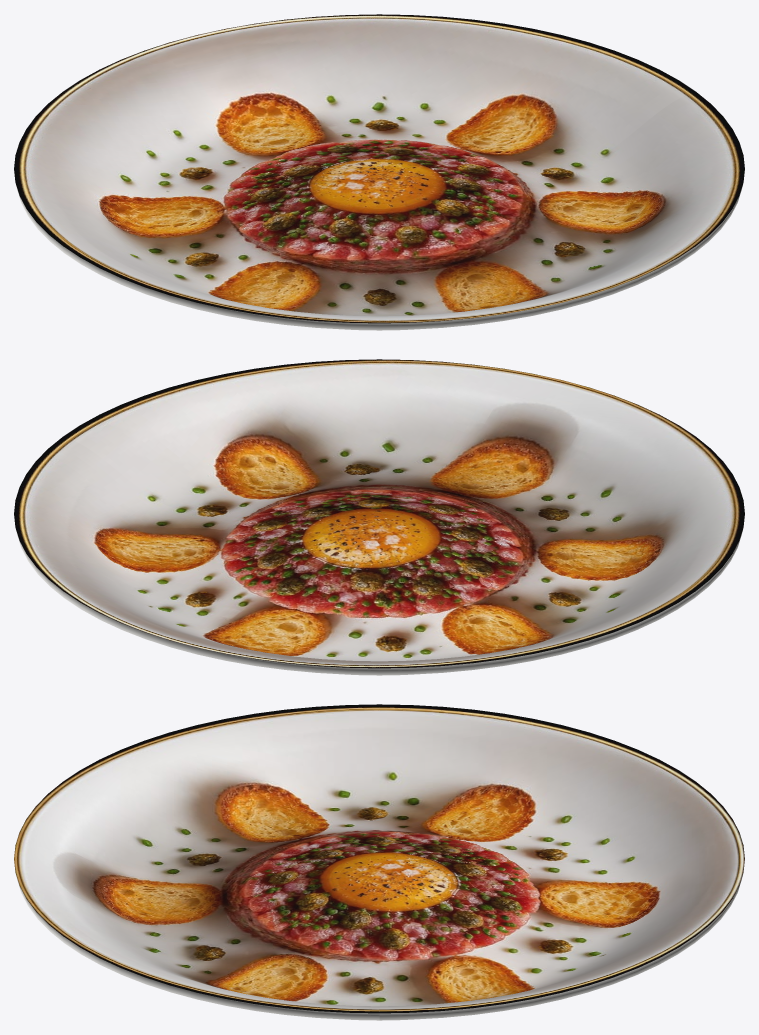
Rendered from tartare-wagyu.glb.
3 renders of one model, top to bottom at view 1: azimuth 30°, elevation 25°; view 2: azimuth 150°, elevation 25°; view 3: azimuth 270°, elevation 25°, orthographic.
Parts seen in each view (by area): view 1: dish; view 2: dish; view 3: dish.
Part boxes in pixels (x1=…): dish: x1=14, y1=14, x2=744, y2=330; dish: x1=14, y1=359, x2=744, y2=675; dish: x1=14, y1=704, x2=744, y2=1020.
Bounding box in the file's own units: 0.26 × 0.025 × 0.26.
Materials: 2 (1 with a texture image).
